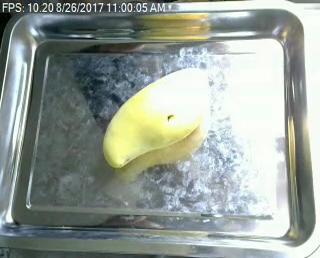Mango: (102, 66, 215, 167)
